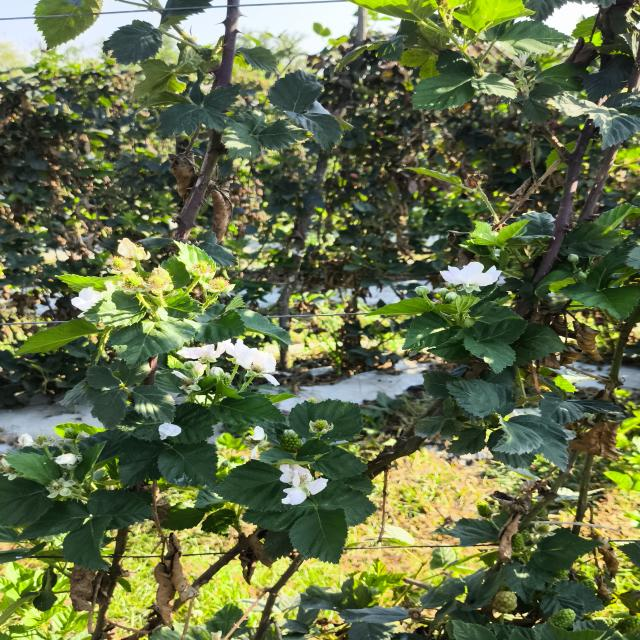boton: (415, 286, 429, 299), (444, 291, 459, 302)
flor: (234, 339, 279, 385), (279, 464, 328, 505), (440, 262, 502, 293), (71, 287, 103, 318), (178, 343, 225, 362), (159, 423, 182, 440), (54, 453, 80, 465)
